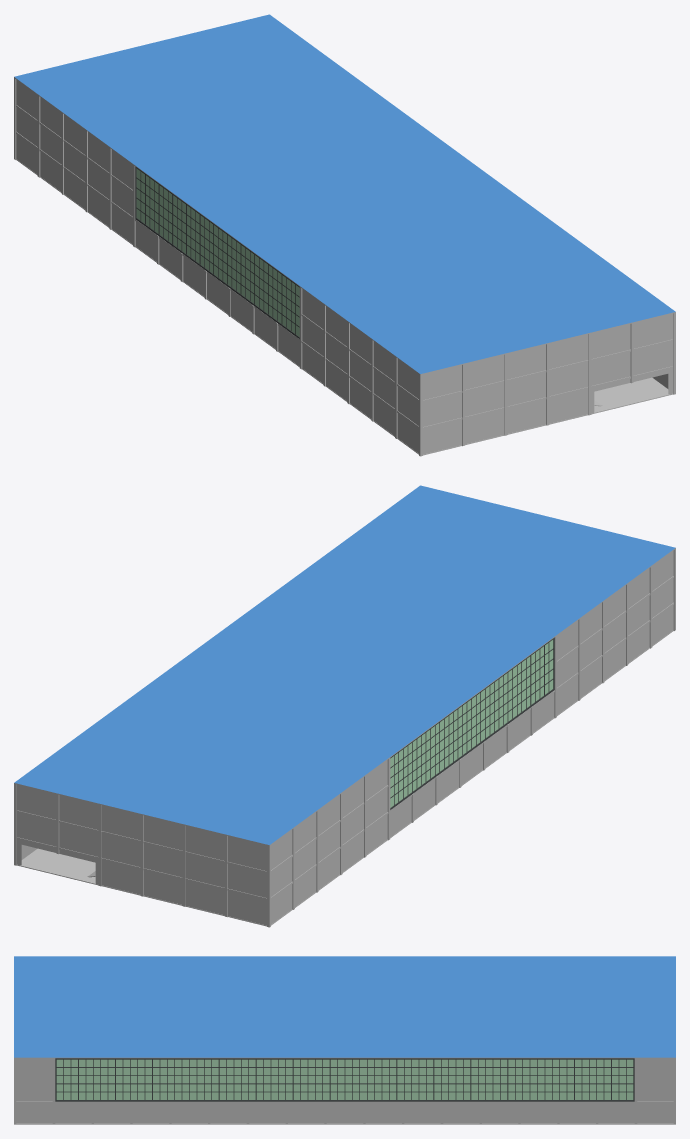
Rendered from Big_line_assembly_build.fbx.
3 renders of one model, top to bottom at view 1: azimuth 30°, elevation 25°; view 2: azimuth 150°, elevation 25°; view 3: azimuth 270°, elevation 25°, orthographic. The views are drawn at different scales.
Visible parts, largest first — view 1: Plane.044, Plane.043, Plane.064, Plane.055, Plane.063, Plane.048, Plane.053, Plane.054, Plane.059; view 2: Plane.044, Plane.043, Plane.064, Plane.055, Plane.063, Plane.048, Plane.053, Plane.054, Plane.059; view 3: Plane.044, Plane.062, Plane.043, Plane.061, Plane.059, Plane.055, Plane.053, Plane.048.
Boxes of the visible parts, x1,y1,x2,y2 form: Plane.044: (14,14,675,374); Plane.043: (16,79,672,454); Plane.064: (136,168,299,336); Plane.055: (14,78,675,456); Plane.063: (136,168,299,334); Plane.048: (16,159,672,455); Plane.053: (16,131,672,429); Plane.054: (16,105,672,402); Plane.059: (135,166,299,338); Plane.044: (14,485,675,845); Plane.043: (17,550,673,925); Plane.064: (390,639,553,807); Plane.055: (14,548,675,927); Plane.063: (390,642,553,805); Plane.048: (17,630,673,926); Plane.053: (17,602,673,900); Plane.054: (17,576,673,873); Plane.059: (390,637,554,809); Plane.044: (14,956,675,1058); Plane.062: (56,1059,633,1099); Plane.043: (16,1058,673,1123); Plane.061: (56,1059,633,1099); Plane.059: (55,1058,634,1101); Plane.055: (14,1058,675,1124); Plane.053: (16,1101,673,1103); Plane.048: (16,1123,673,1124).
Size of the model in its own units: 4980 by 1533 by 13712.
